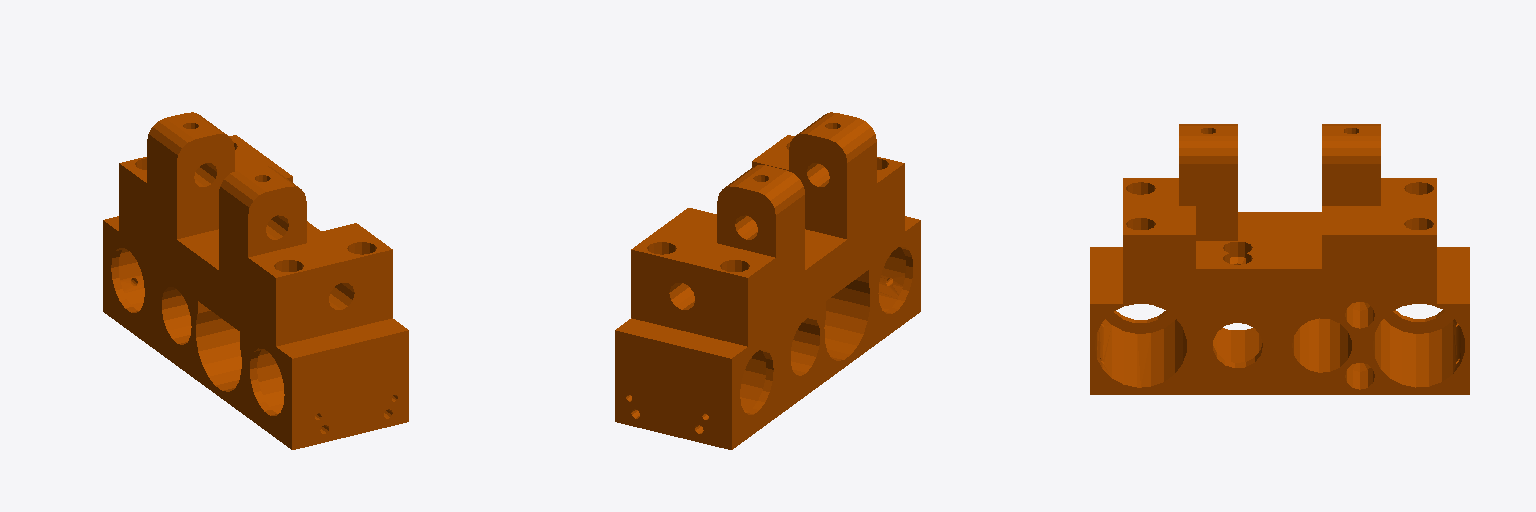
The model's file is axial_translation_link.OBJ.
3 views of the same model, side by side, from view 1: azimuth 30°, elevation 25°; view 2: azimuth 150°, elevation 25°; view 3: azimuth 270°, elevation 25° (orthographic).
Parts seen in each view (by area): view 1: /ambf/env/neuro_robot/axial_translation_link_axial_translation_l; view 2: /ambf/env/neuro_robot/axial_translation_link_axial_translation_l; view 3: /ambf/env/neuro_robot/axial_translation_link_axial_translation_l.
Boxes of the visible parts, x1,y1,x2,y2 form: /ambf/env/neuro_robot/axial_translation_link_axial_translation_l: [103, 112, 408, 449]; /ambf/env/neuro_robot/axial_translation_link_axial_translation_l: [615, 112, 920, 449]; /ambf/env/neuro_robot/axial_translation_link_axial_translation_l: [1090, 124, 1469, 394].
Bounding box in the file's own units: 0.032 × 0.058 × 0.09.